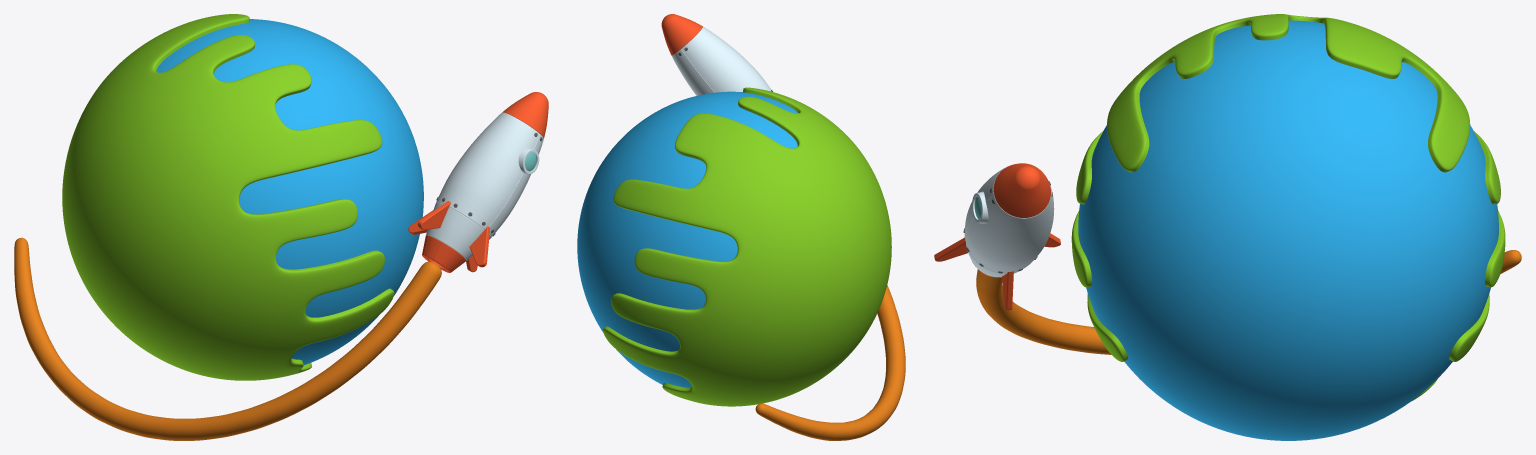
File: Planet-7.fbx
The picture shows the model from 3 angles, left to right: view 1: azimuth 30°, elevation 25°; view 2: azimuth 150°, elevation 25°; view 3: azimuth 270°, elevation 25°; orthographic projection. The views are drawn at different scales.
Visible parts, largest first — view 1: Roundcube.001, Roundcube, Circle, Cylinder.031, Cylinder.029, Cylinder.030, Plane.004; view 2: Roundcube.001, Roundcube, Circle, Cylinder.031, Cylinder.030; view 3: Roundcube, Roundcube.001, Cylinder.031, Circle, Cylinder.030.
Boxes of the visible parts, <box> form: Roundcube.001: <box>62,14,394,380</box>; Roundcube: <box>156,19,423,364</box>; Circle: <box>14,237,441,440</box>; Cylinder.031: <box>436,112,543,237</box>; Cylinder.029: <box>426,202,491,260</box>; Cylinder.030: <box>502,92,548,137</box>; Plane.004: <box>469,226,490,267</box>; Roundcube.001: <box>603,87,891,406</box>; Roundcube: <box>577,91,797,387</box>; Circle: <box>755,285,905,440</box>; Cylinder.031: <box>671,26,771,95</box>; Cylinder.030: <box>661,14,702,55</box>; Roundcube: <box>1078,20,1498,440</box>; Roundcube.001: <box>1071,14,1505,401</box>; Cylinder.031: <box>964,166,1054,273</box>; Circle: <box>976,250,1521,354</box>; Cylinder.030: <box>993,163,1050,217</box>.
Size of the model in its own units: 537 by 483 by 638.
